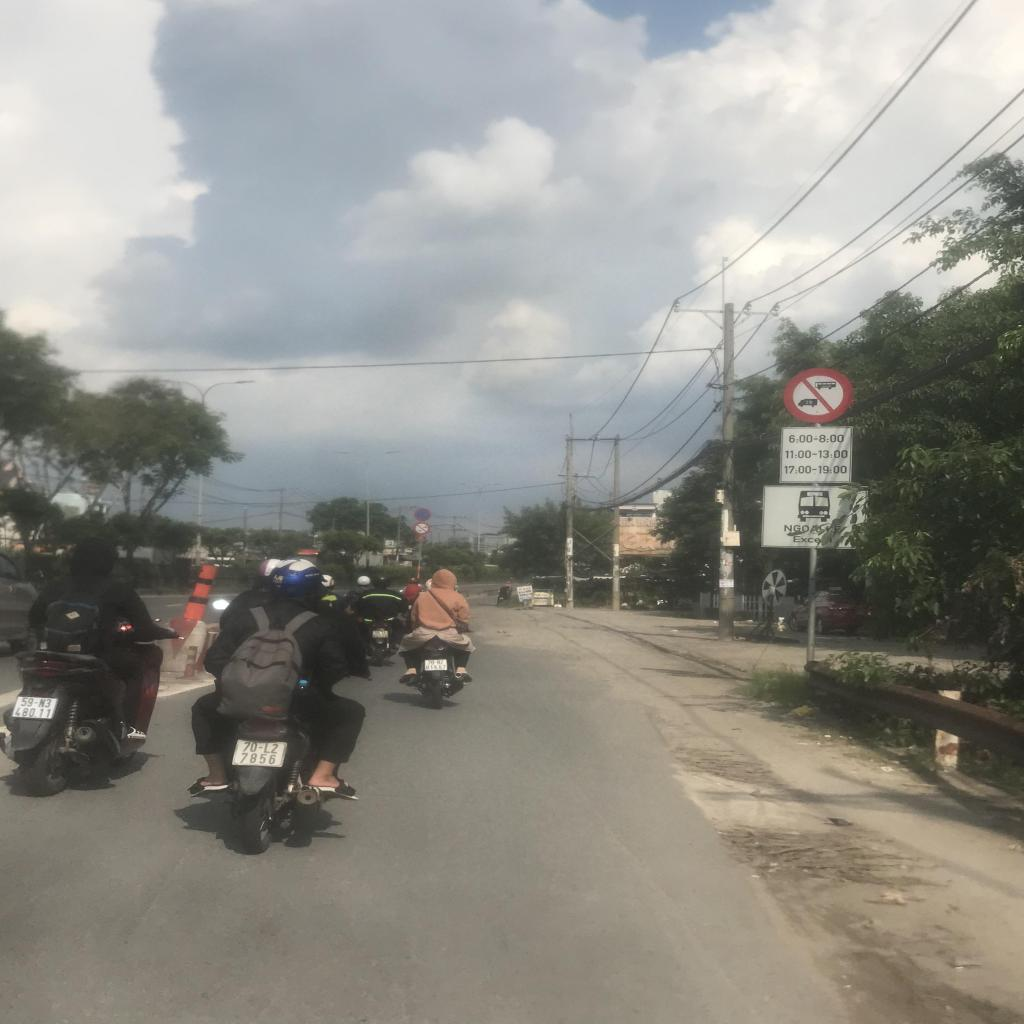cam_dung_xe_va_do_xe: (414, 508, 432, 522)
cam_o_to_tai_va_xe_khach: (784, 367, 854, 423)
cam_xe_2_banh_va_xe_3_banh_co_dong_co: (412, 521, 430, 535)
khac: (762, 486, 868, 549), (779, 428, 853, 482)
